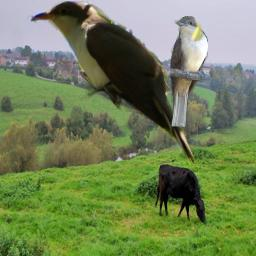Cuckoo: (27, 1, 194, 167), (168, 16, 208, 127)
